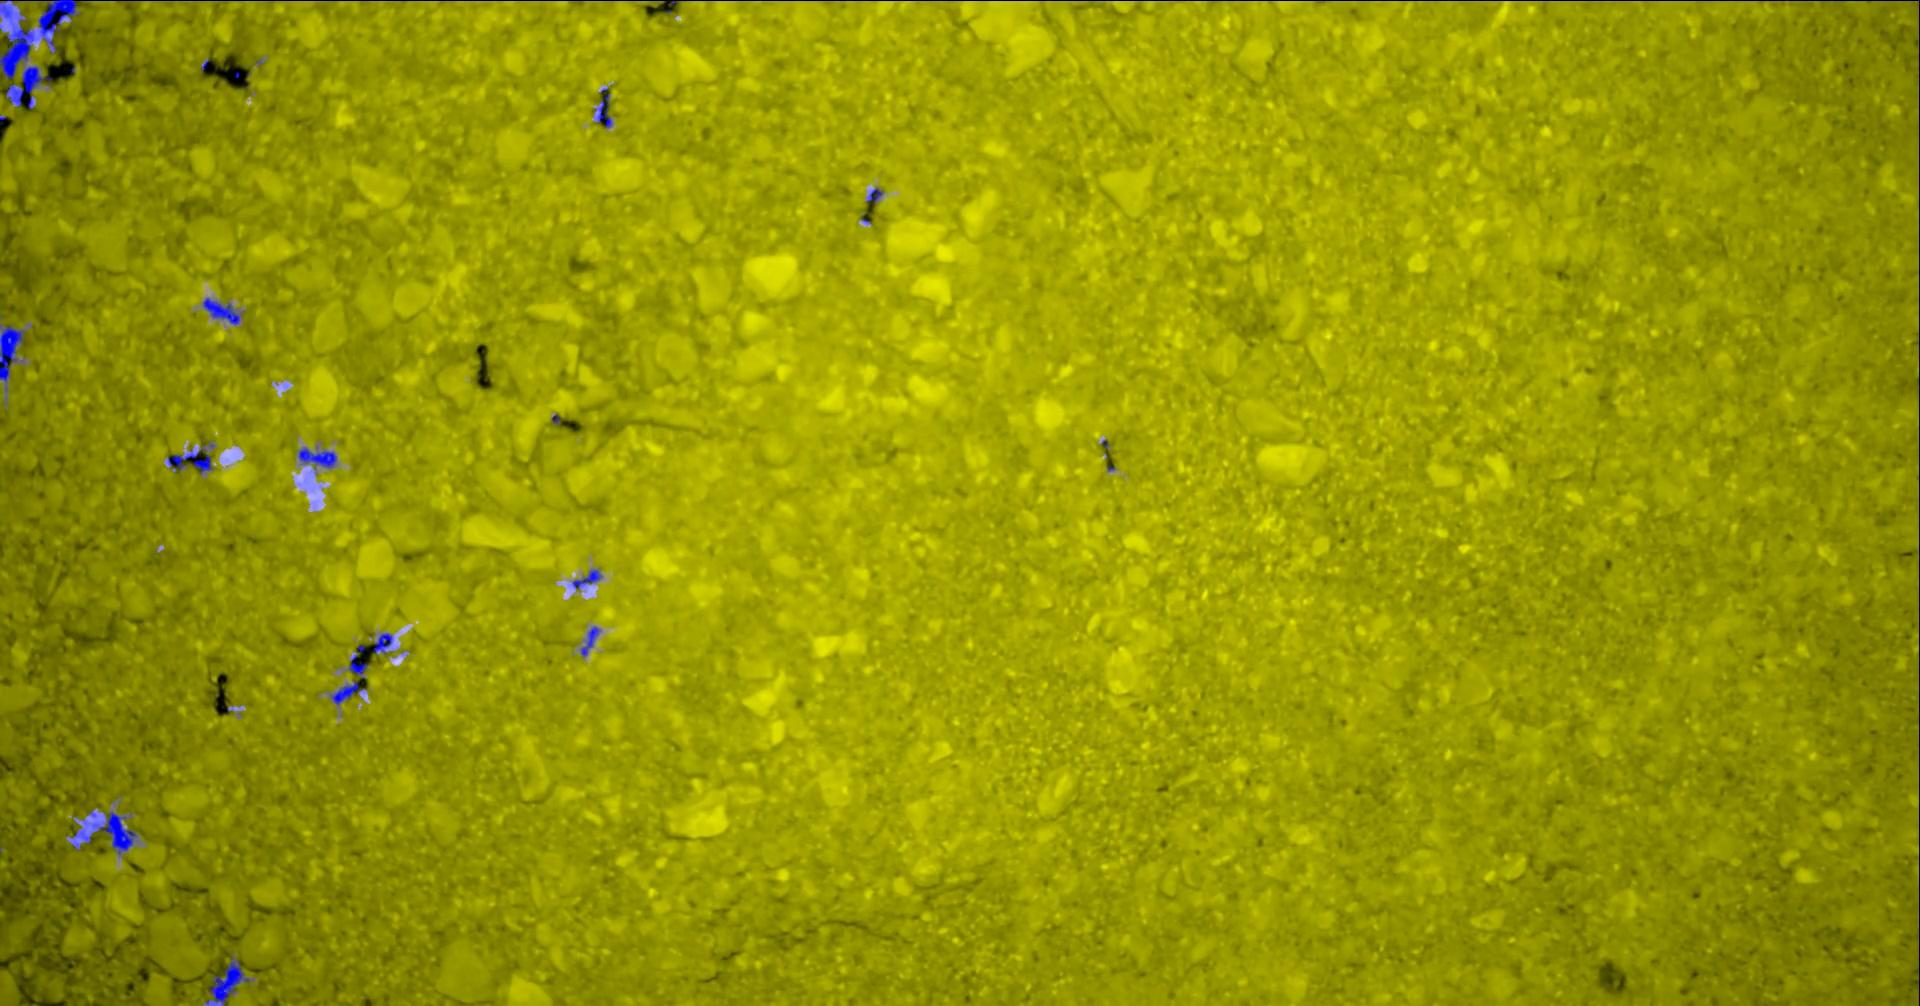ant: (70, 810, 136, 854), (38, 0, 85, 52), (0, 11, 34, 77), (204, 956, 249, 1005), (4, 66, 51, 109), (0, 325, 25, 391), (168, 443, 215, 473), (203, 297, 239, 324), (330, 680, 364, 705), (298, 447, 337, 469), (593, 86, 611, 127), (348, 644, 367, 678), (571, 569, 601, 588), (580, 626, 599, 655), (372, 633, 392, 654), (0, 0, 17, 20), (866, 187, 883, 203)
